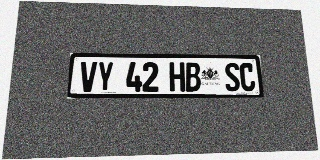2: (143, 62, 158, 92)
4: (126, 62, 142, 92)
B: (185, 62, 201, 92)
C: (239, 63, 256, 91)
H: (169, 62, 185, 92)
S: (224, 63, 241, 91)
V: (79, 61, 97, 92)
Y: (96, 62, 114, 92)
